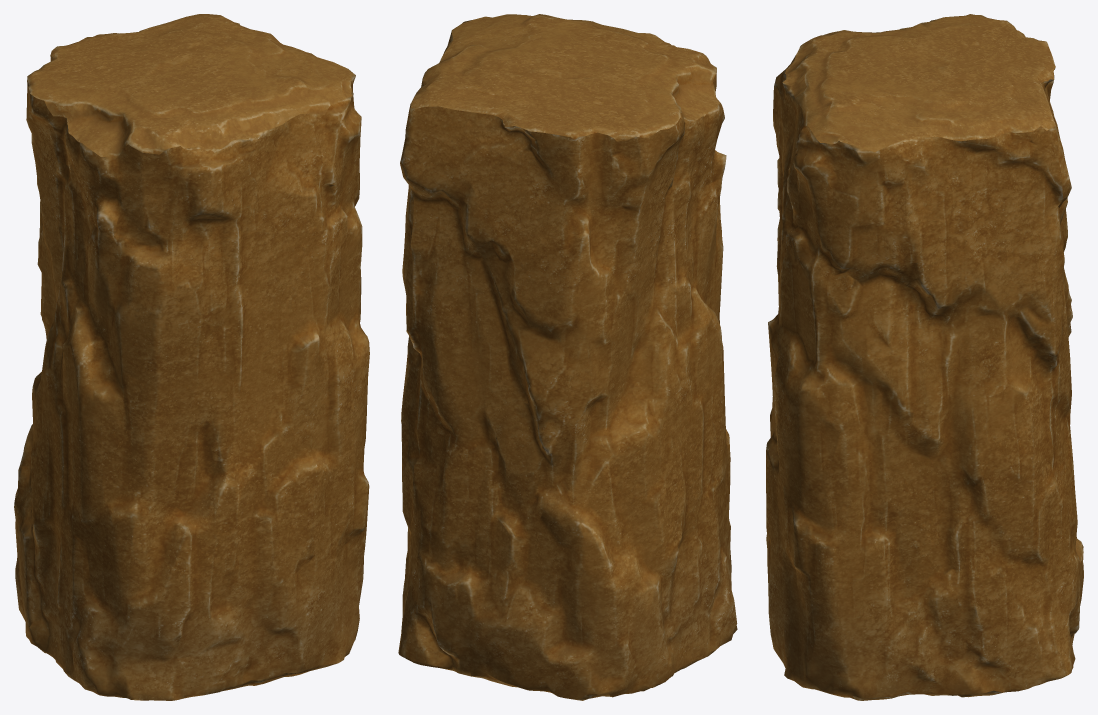
3 views of the same model, side by side, from view 1: azimuth 30°, elevation 25°; view 2: azimuth 150°, elevation 25°; view 3: azimuth 270°, elevation 25° (orthographic).
Visible parts, largest first — view 1: SM_Rock02; view 2: SM_Rock02; view 3: SM_Rock02.
Part boxes in pixels (box(x1,y1,x2,y2)): SM_Rock02: box(14, 14, 369, 700); SM_Rock02: box(398, 14, 737, 700); SM_Rock02: box(766, 14, 1083, 700).
Bounding box in the file's own units: 102 × 208 × 102.
Materials: 1 (1 with a texture image).
